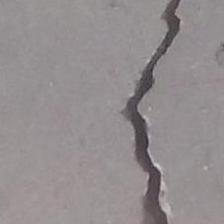Crack: (1, 0, 216, 221)
